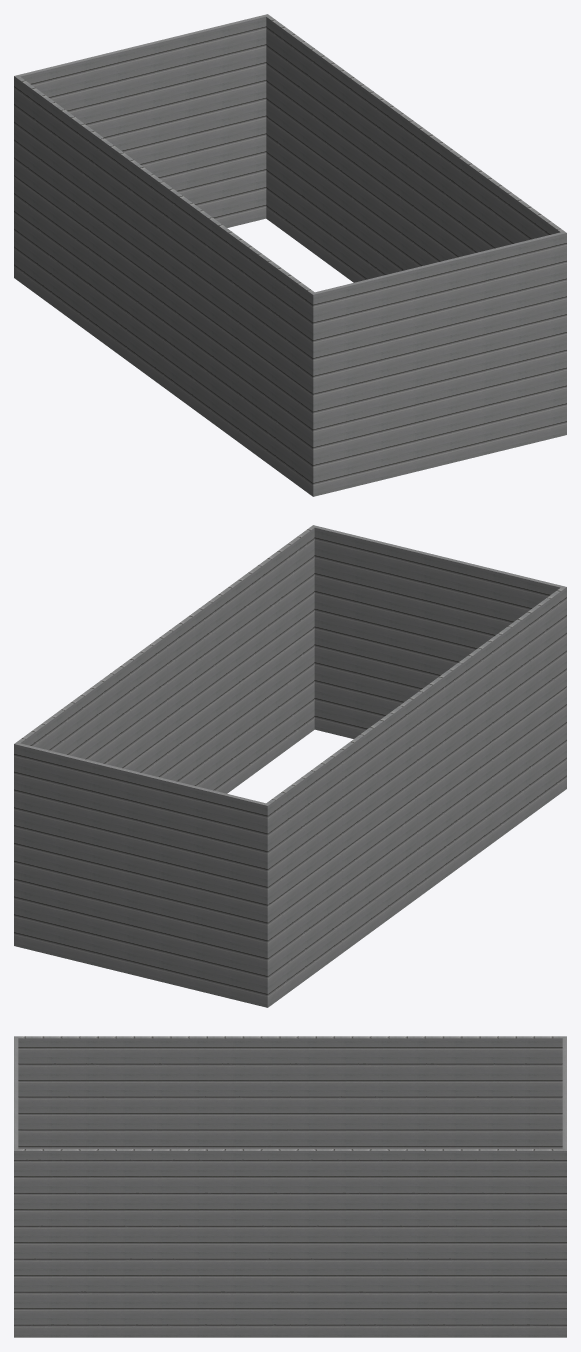
File: exteriorGf.glb
The picture shows the model from 3 angles, top to bottom: view 1: azimuth 30°, elevation 25°; view 2: azimuth 150°, elevation 25°; view 3: azimuth 270°, elevation 25°; orthographic projection. The views are drawn at different scales.
Parts seen in each view (by area): view 1: exteriorwall; view 2: exteriorwall; view 3: exteriorwall.
Part boxes in pixels (box(x1,y1,x2,y2)): exteriorwall: box(14, 14, 566, 496); exteriorwall: box(14, 525, 566, 1007); exteriorwall: box(14, 1036, 566, 1337).
Size of the model in its own units: 3.68 by 2.8 by 7.52.
Materials: 1 (1 with a texture image).
